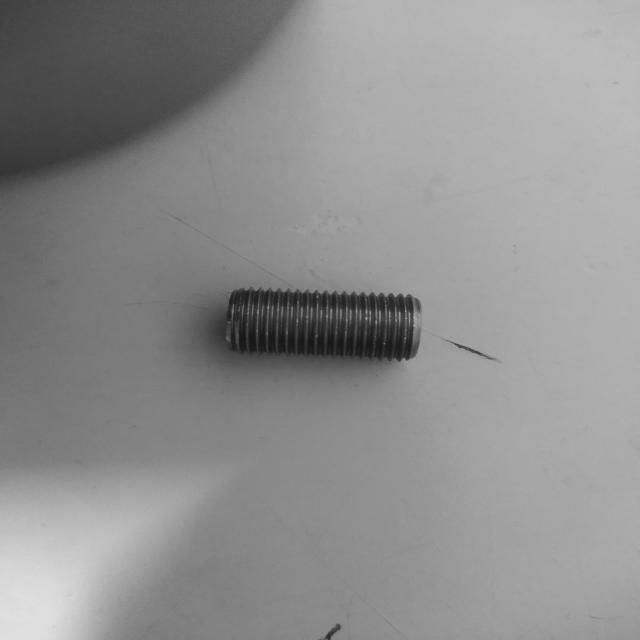Normal: (226, 286, 424, 364)
